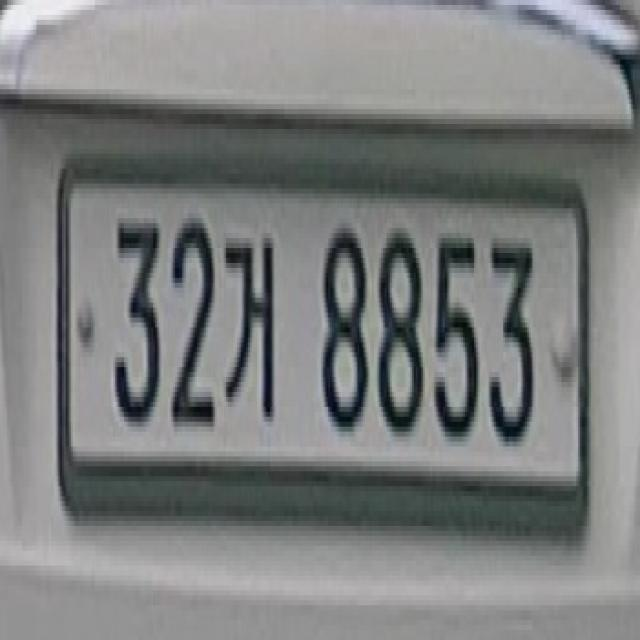2: (164, 204, 221, 432)
3: (113, 208, 166, 436), (485, 228, 536, 452)
5: (432, 228, 480, 442)
8: (317, 218, 372, 432), (376, 223, 424, 432)
geo: (224, 233, 277, 417)
license_plate: (64, 159, 585, 526)
